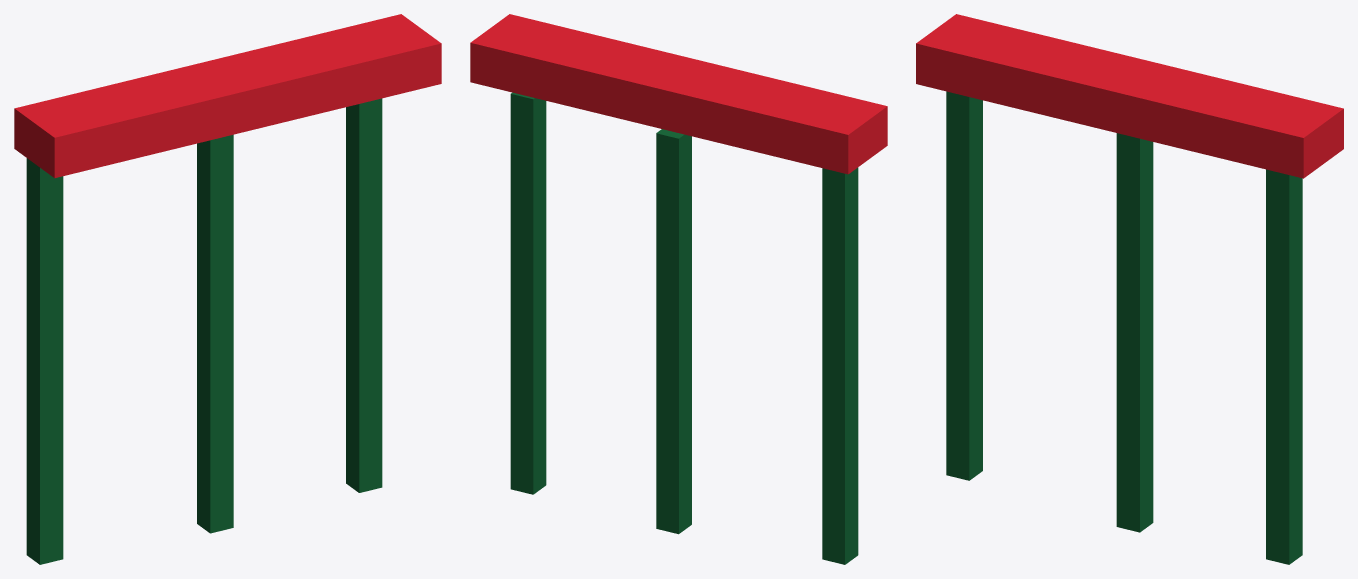
Rendered from tinker.obj.
The picture shows the model from 3 angles, left to right: view 1: azimuth 30°, elevation 25°; view 2: azimuth 150°, elevation 25°; view 3: azimuth 330°, elevation 25°; orthographic projection. The views are drawn at different scales.
Visible parts, largest first — view 1: group_0_1206582, group_0_15277357; view 2: group_0_1206582, group_0_15277357; view 3: group_0_1206582, group_0_15277357.
Part boxes in pixels (x1=…): group_0_1206582: x1=26, y1=98, x2=382, y2=564; group_0_15277357: x1=14, y1=14, x2=441, y2=178; group_0_1206582: x1=510, y1=92, x2=858, y2=564; group_0_15277357: x1=470, y1=14, x2=887, y2=174; group_0_1206582: x1=946, y1=91, x2=1302, y2=564; group_0_15277357: x1=916, y1=14, x2=1343, y2=178.
Bounding box in the file's own units: 200 × 225 × 36.
